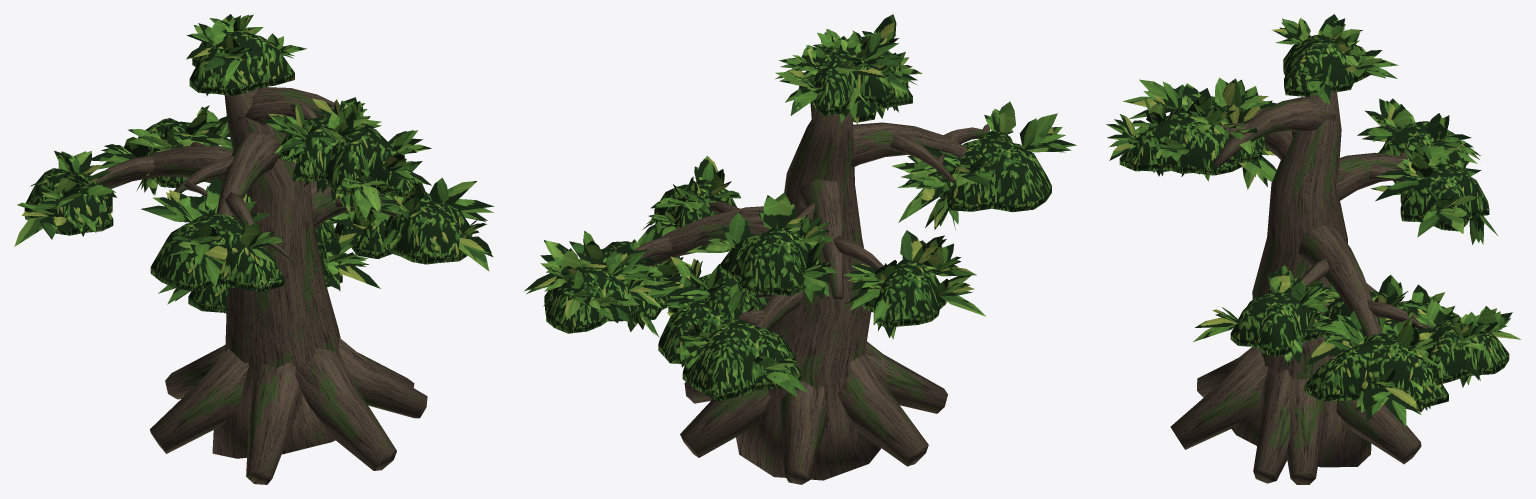
Rendered from Old_Gnarled_Tree.glb.
3 views of the same model, side by side, from view 1: azimuth 30°, elevation 25°; view 2: azimuth 150°, elevation 25°; view 3: azimuth 270°, elevation 25° (orthographic). The views are drawn at different scales.
Parts seen in each view (by area): view 1: Old_Gnarled_Tree__Bark, Old_Gnarled_Tree__Leaves_Detail, Old_Gnarled_Tree__Leaves_Mass; view 2: Old_Gnarled_Tree__Bark, Old_Gnarled_Tree__Leaves_Detail, Old_Gnarled_Tree__Leaves_Mass; view 3: Old_Gnarled_Tree__Bark, Old_Gnarled_Tree__Leaves_Detail, Old_Gnarled_Tree__Leaves_Mass.
Boxes of the visible parts, left/top/right/bottom form: Old_Gnarled_Tree__Bark: left=95, top=87, right=427, bottom=484; Old_Gnarled_Tree__Leaves_Detail: left=14, top=14, right=494, bottom=304; Old_Gnarled_Tree__Leaves_Mass: left=24, top=30, right=472, bottom=313; Old_Gnarled_Tree__Bark: left=608, top=102, right=989, bottom=484; Old_Gnarled_Tree__Leaves_Detail: left=524, top=14, right=1076, bottom=397; Old_Gnarled_Tree__Leaves_Mass: left=544, top=36, right=1051, bottom=401; Old_Gnarled_Tree__Bark: left=1170, top=92, right=1432, bottom=484; Old_Gnarled_Tree__Leaves_Detail: left=1106, top=14, right=1520, bottom=427; Old_Gnarled_Tree__Leaves_Mass: left=1119, top=35, right=1509, bottom=406.
Bounding box in the file's own units: 35.06 × 31.17 × 28.73.
Materials: 2 (2 with a texture image).
